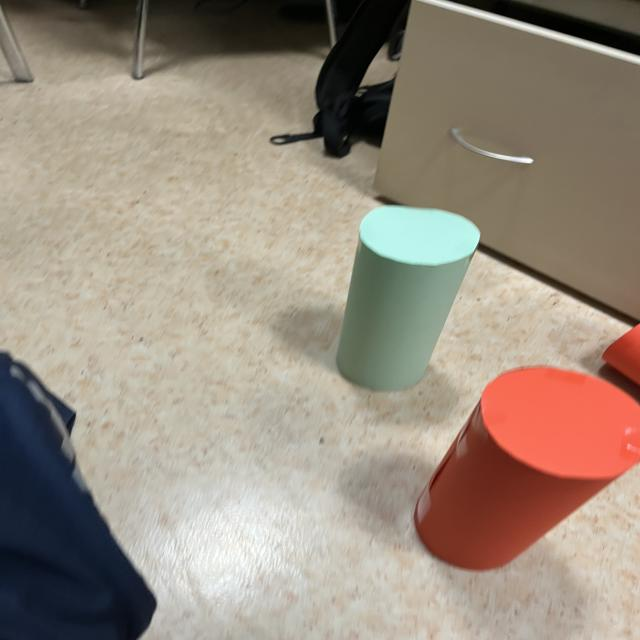meta: (336, 205, 480, 391)
przeszkoda: (414, 366, 640, 570)
